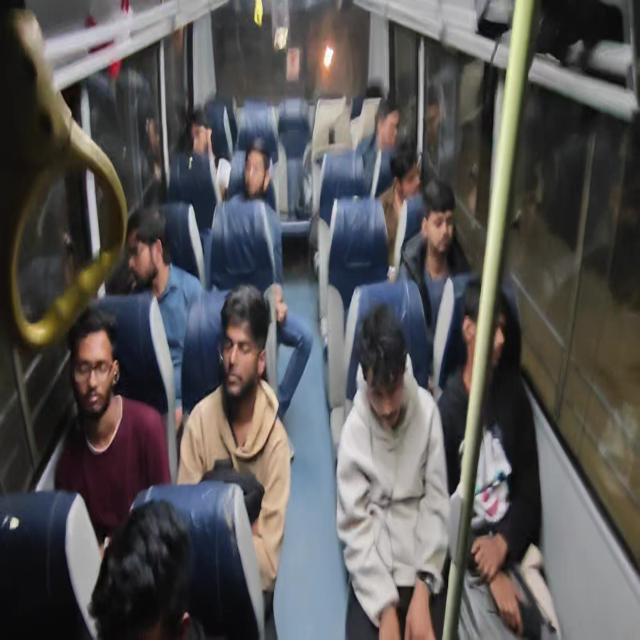person: (354, 305, 418, 438), (214, 286, 269, 404), (70, 301, 124, 418), (458, 270, 510, 376), (124, 204, 171, 282), (420, 180, 464, 259), (182, 104, 218, 164), (390, 138, 421, 200), (376, 92, 403, 148), (242, 137, 267, 196), (364, 76, 385, 112)
